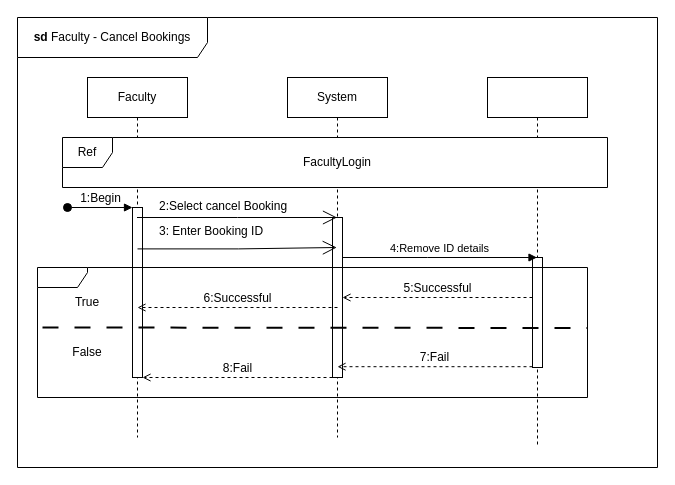
This 675x485 diagram has some shape labels left out. Each missing label, with the centre of its shape:
"alt" goes at pixel 312 332.
"Database" goes at pixel 537 262.
